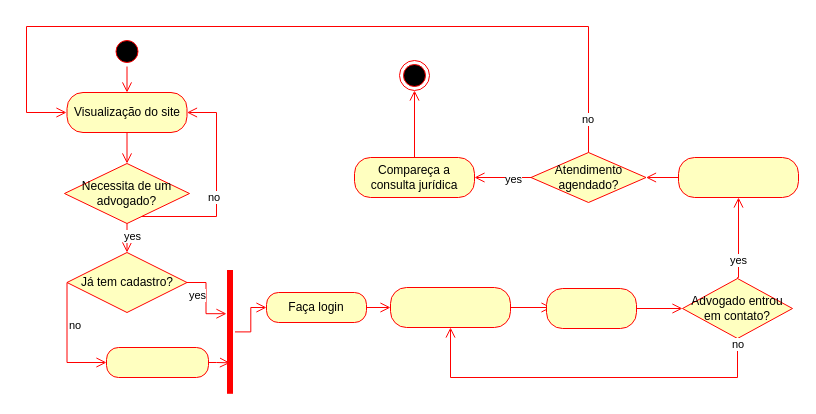
The diagram is 816 pixels wide and 414 high, and some of its shapes have lost their labels. The centre of each missing label's shape, as x and y in pixels:
Agendar atendimento: [738,177]
Aguarde aceito: [591,308]
Criar cadastro: [157,362]
Preencher formulário para contato: [450,307]
